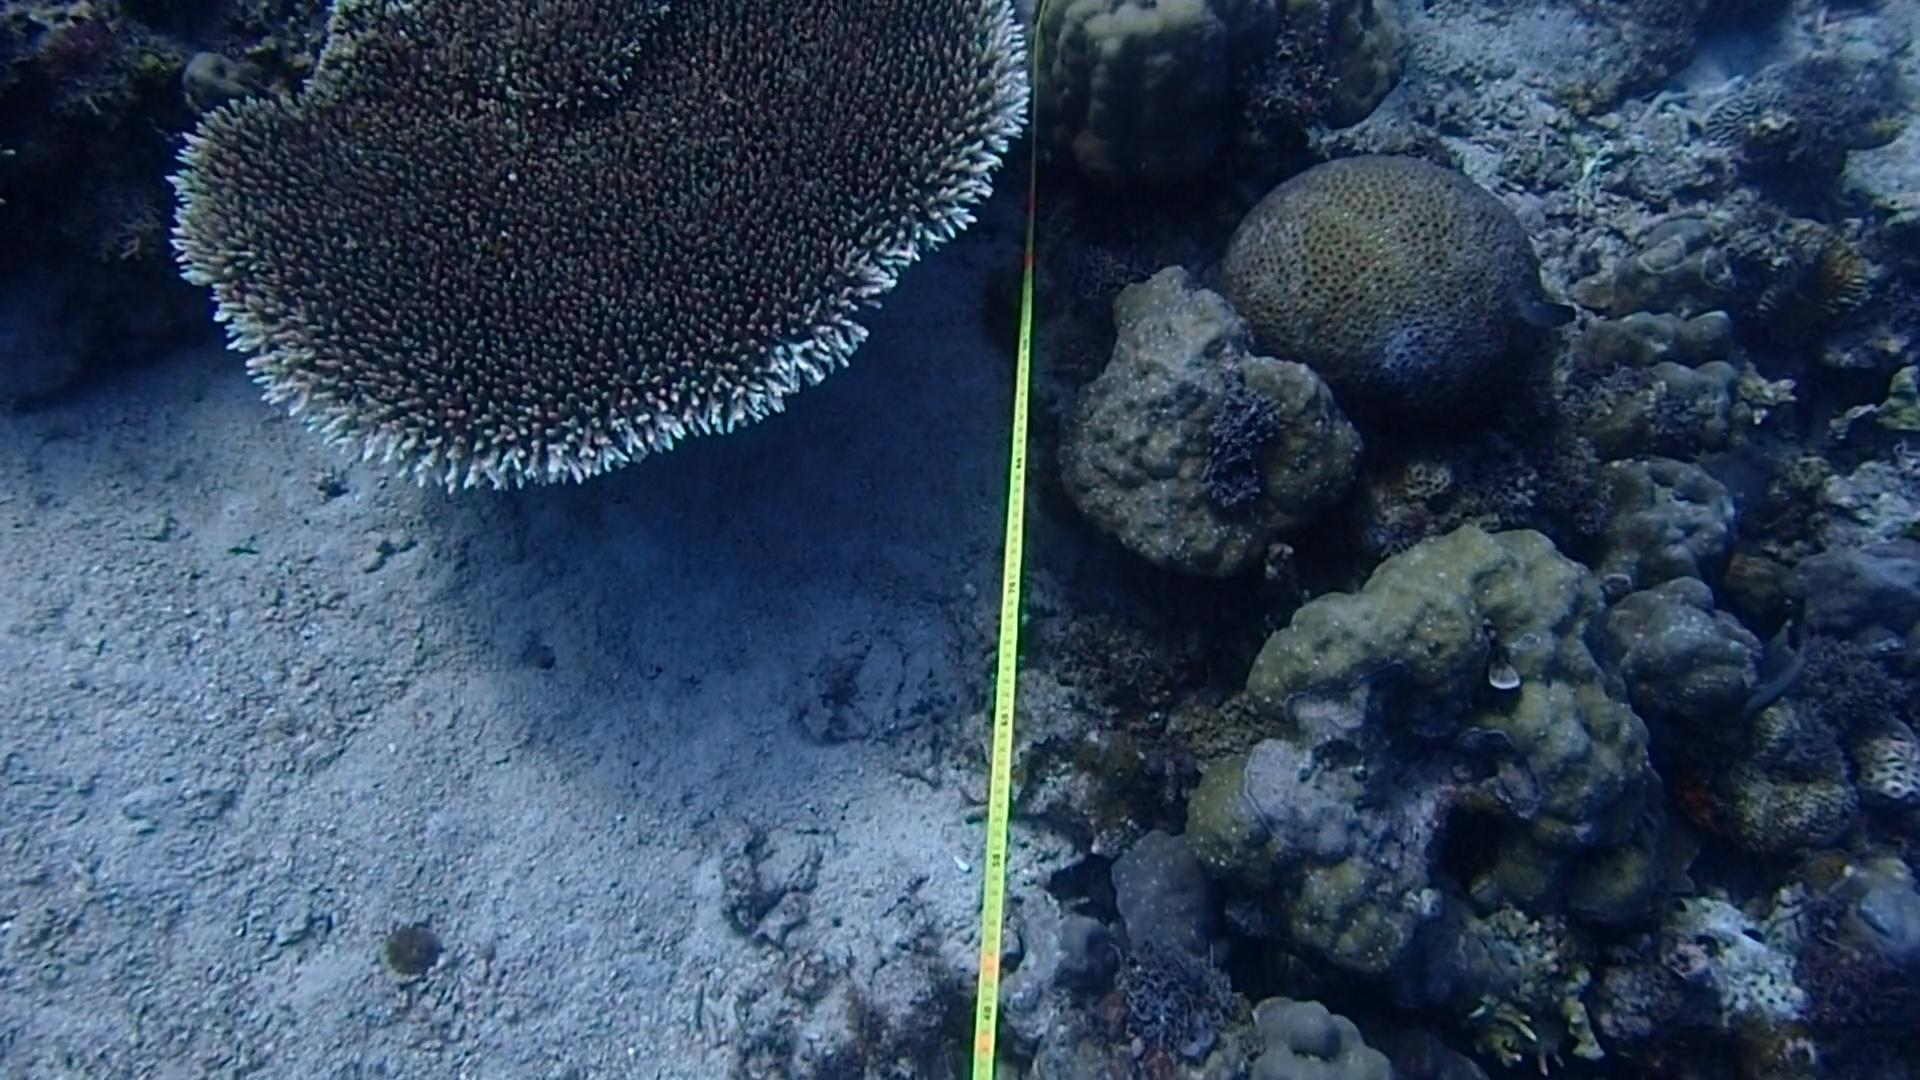Light Fish: (1729, 629, 1830, 735)
